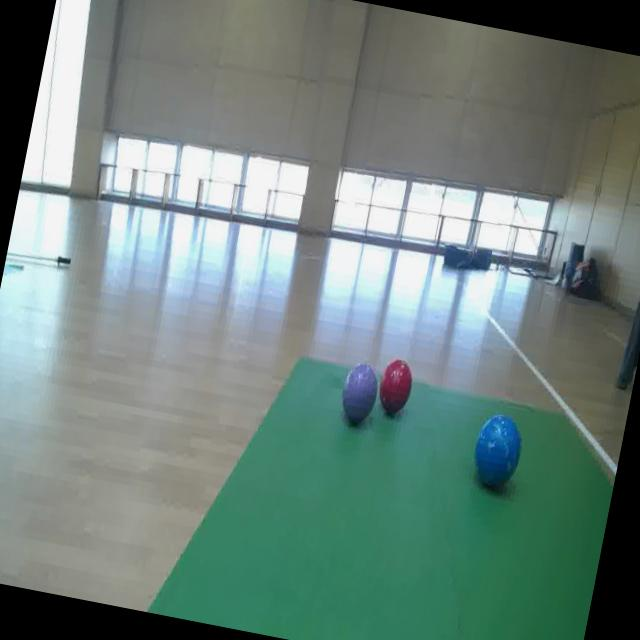blue_ball: (471, 413, 530, 494)
purple_ball: (337, 356, 382, 434)
red_ball: (372, 358, 422, 423)
